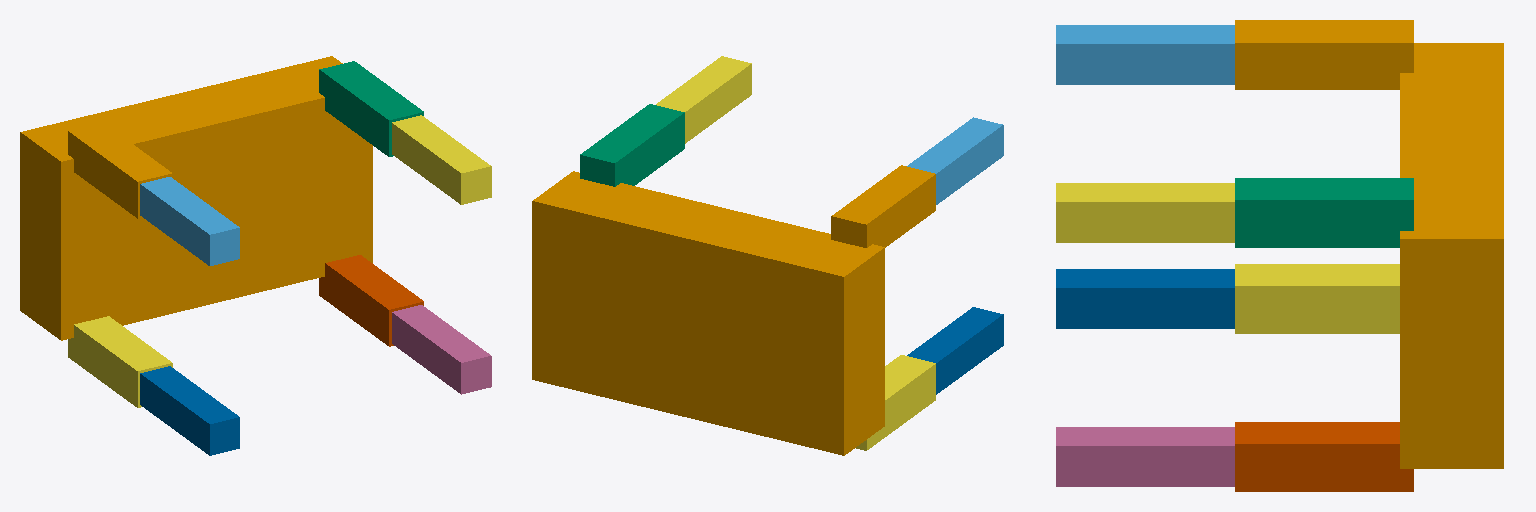
The robot description file, URDF, robot "rne_quadruped":
<?xml version="1.0"?>
<robot name="rne_quadruped">
  <link name="base_link">
    <visual><geometry><box size="0.62 0.14 0.34"/></geometry></visual>
    <collision><geometry><box size="0.62 0.14 0.34"/></geometry></collision>
  </link>

  <!-- Front-left leg. URDF coordinates follow RNE's Y-up world. -->
  <link name="fl_hip"/>
  <link name="fl_thigh">
    <visual><origin xyz="0 -0.12 0"/><geometry><box size="0.07 0.24 0.07"/></geometry></visual>
    <collision><origin xyz="0 -0.12 0"/><geometry><box size="0.07 0.24 0.07"/></geometry></collision>
  </link>
  <link name="fl_foot">
    <visual><origin xyz="0 -0.12 0"/><geometry><box size="0.06 0.24 0.06"/></geometry></visual>
    <collision><origin xyz="0 -0.12 0"/><geometry><box size="0.06 0.24 0.06"/></geometry></collision>
    <collision><origin xyz="0 -0.255 0"/><geometry><box size="0.10 0.03 0.10"/></geometry></collision>
  </link>
  <joint name="fl_hip_roll_joint" type="revolute">
    <parent link="base_link"/><child link="fl_hip"/><origin xyz="0.25 -0.05 0.18"/><axis xyz="1 0 0"/><limit lower="-0.6" upper="0.6" effort="40" velocity="6"/>
  </joint>
  <joint name="fl_hip_pitch_joint" type="revolute">
    <parent link="fl_hip"/><child link="fl_thigh"/><axis xyz="0 0 1"/><limit lower="-1.2" upper="1.2" effort="40" velocity="6"/>
  </joint>
  <joint name="fl_knee_joint" type="revolute">
    <parent link="fl_thigh"/><child link="fl_foot"/><origin xyz="0 -0.24 0"/><axis xyz="0 0 1"/><limit lower="-1.5" upper="1.5" effort="40" velocity="6"/>
  </joint>

  <!-- Front-right leg. -->
  <link name="fr_hip"/>
  <link name="fr_thigh">
    <visual><origin xyz="0 -0.12 0"/><geometry><box size="0.07 0.24 0.07"/></geometry></visual>
    <collision><origin xyz="0 -0.12 0"/><geometry><box size="0.07 0.24 0.07"/></geometry></collision>
  </link>
  <link name="fr_foot">
    <visual><origin xyz="0 -0.12 0"/><geometry><box size="0.06 0.24 0.06"/></geometry></visual>
    <collision><origin xyz="0 -0.12 0"/><geometry><box size="0.06 0.24 0.06"/></geometry></collision>
    <collision><origin xyz="0 -0.255 0"/><geometry><box size="0.10 0.03 0.10"/></geometry></collision>
  </link>
  <joint name="fr_hip_roll_joint" type="revolute">
    <parent link="base_link"/><child link="fr_hip"/><origin xyz="0.25 -0.05 -0.18"/><axis xyz="1 0 0"/><limit lower="-0.6" upper="0.6" effort="40" velocity="6"/>
  </joint>
  <joint name="fr_hip_pitch_joint" type="revolute">
    <parent link="fr_hip"/><child link="fr_thigh"/><axis xyz="0 0 1"/><limit lower="-1.2" upper="1.2" effort="40" velocity="6"/>
  </joint>
  <joint name="fr_knee_joint" type="revolute">
    <parent link="fr_thigh"/><child link="fr_foot"/><origin xyz="0 -0.24 0"/><axis xyz="0 0 1"/><limit lower="-1.5" upper="1.5" effort="40" velocity="6"/>
  </joint>

  <!-- Rear-left leg. -->
  <link name="rl_hip"/>
  <link name="rl_thigh">
    <visual><origin xyz="0 -0.12 0"/><geometry><box size="0.07 0.24 0.07"/></geometry></visual>
    <collision><origin xyz="0 -0.12 0"/><geometry><box size="0.07 0.24 0.07"/></geometry></collision>
  </link>
  <link name="rl_foot">
    <visual><origin xyz="0 -0.12 0"/><geometry><box size="0.06 0.24 0.06"/></geometry></visual>
    <collision><origin xyz="0 -0.12 0"/><geometry><box size="0.06 0.24 0.06"/></geometry></collision>
    <collision><origin xyz="0 -0.255 0"/><geometry><box size="0.10 0.03 0.10"/></geometry></collision>
  </link>
  <joint name="rl_hip_roll_joint" type="revolute">
    <parent link="base_link"/><child link="rl_hip"/><origin xyz="-0.25 -0.05 0.18"/><axis xyz="1 0 0"/><limit lower="-0.6" upper="0.6" effort="40" velocity="6"/>
  </joint>
  <joint name="rl_hip_pitch_joint" type="revolute">
    <parent link="rl_hip"/><child link="rl_thigh"/><axis xyz="0 0 1"/><limit lower="-1.2" upper="1.2" effort="40" velocity="6"/>
  </joint>
  <joint name="rl_knee_joint" type="revolute">
    <parent link="rl_thigh"/><child link="rl_foot"/><origin xyz="0 -0.24 0"/><axis xyz="0 0 1"/><limit lower="-1.5" upper="1.5" effort="40" velocity="6"/>
  </joint>

  <!-- Rear-right leg. -->
  <link name="rr_hip"/>
  <link name="rr_thigh">
    <visual><origin xyz="0 -0.12 0"/><geometry><box size="0.07 0.24 0.07"/></geometry></visual>
    <collision><origin xyz="0 -0.12 0"/><geometry><box size="0.07 0.24 0.07"/></geometry></collision>
  </link>
  <link name="rr_foot">
    <visual><origin xyz="0 -0.12 0"/><geometry><box size="0.06 0.24 0.06"/></geometry></visual>
    <collision><origin xyz="0 -0.12 0"/><geometry><box size="0.06 0.24 0.06"/></geometry></collision>
    <collision><origin xyz="0 -0.255 0"/><geometry><box size="0.10 0.03 0.10"/></geometry></collision>
  </link>
  <joint name="rr_hip_roll_joint" type="revolute">
    <parent link="base_link"/><child link="rr_hip"/><origin xyz="-0.25 -0.05 -0.18"/><axis xyz="1 0 0"/><limit lower="-0.6" upper="0.6" effort="40" velocity="6"/>
  </joint>
  <joint name="rr_hip_pitch_joint" type="revolute">
    <parent link="rr_hip"/><child link="rr_thigh"/><axis xyz="0 0 1"/><limit lower="-1.2" upper="1.2" effort="40" velocity="6"/>
  </joint>
  <joint name="rr_knee_joint" type="revolute">
    <parent link="rr_thigh"/><child link="rr_foot"/><origin xyz="0 -0.24 0"/><axis xyz="0 0 1"/><limit lower="-1.5" upper="1.5" effort="40" velocity="6"/>
  </joint>
</robot>

--- Render facts (derived) ---
3 views of the same robot in one strip: view 1: azimuth 30°, elevation 25°; view 2: azimuth 150°, elevation 25°; view 3: azimuth 270°, elevation 25° (orthographic).
Model rne_quadruped with 13 links and 12 joints (12 revolute), rooted at base_link, posed all joints at 0.
Links seen in each view (by area): view 1: base_link, fl_foot, rr_foot, fr_foot, rl_foot, fl_thigh, rl_thigh, fr_thigh, rr_thigh; view 2: base_link, fl_thigh, rl_thigh, rl_foot, rr_foot, fl_foot, rr_thigh; view 3: base_link, fl_thigh, rl_thigh, fr_thigh, rr_thigh, fl_foot, fr_foot, rl_foot, rr_foot.
Boxes of the visible links, x1,y1,x2,y2 form: base_link: (20, 56, 372, 340); fl_foot: (392, 115, 491, 204); rr_foot: (140, 366, 239, 455); fr_foot: (392, 305, 491, 394); rl_foot: (140, 177, 239, 265); fl_thigh: (319, 61, 423, 156); rl_thigh: (68, 122, 172, 218); fr_thigh: (319, 255, 423, 346); rr_thigh: (68, 316, 172, 407); base_link: (532, 171, 884, 455); fl_thigh: (580, 104, 684, 186); rl_thigh: (831, 165, 935, 247); rl_foot: (907, 117, 1003, 204); rr_foot: (907, 307, 1003, 394); fl_foot: (656, 56, 751, 143); rr_thigh: (856, 355, 935, 450); base_link: (1400, 43, 1503, 468); fl_thigh: (1235, 178, 1413, 247); rl_thigh: (1235, 20, 1413, 89); fr_thigh: (1235, 422, 1413, 491); rr_thigh: (1235, 264, 1399, 333); fl_foot: (1056, 183, 1234, 242); fr_foot: (1056, 427, 1234, 486); rl_foot: (1056, 25, 1234, 84); rr_foot: (1056, 269, 1234, 328).
Size in the robot's own frame: 0.62 by 0.6 by 0.43 metres.
Geometry: primitives only (box / cylinder / sphere), no mesh files.
